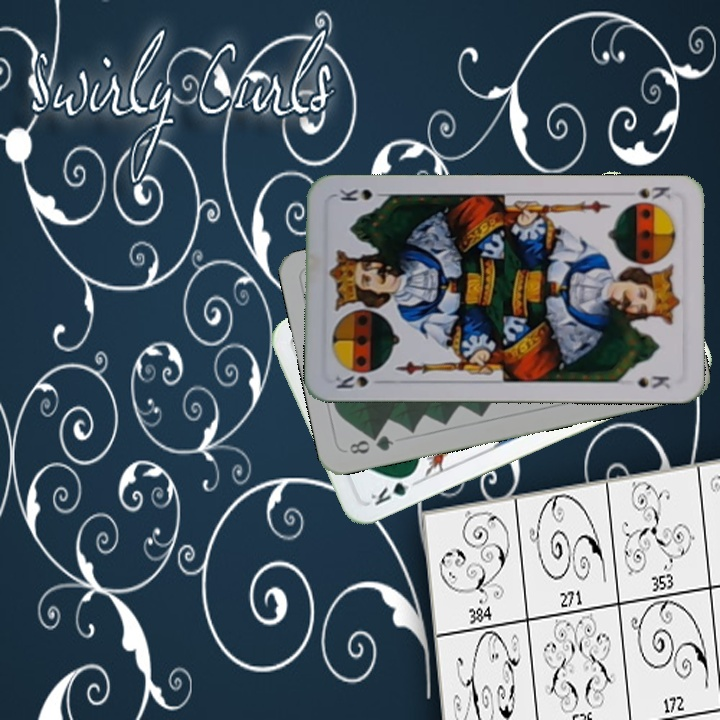G8: (345, 430, 396, 457)
GK: (366, 469, 422, 509)
SK: (619, 182, 673, 203), (331, 371, 371, 391)
